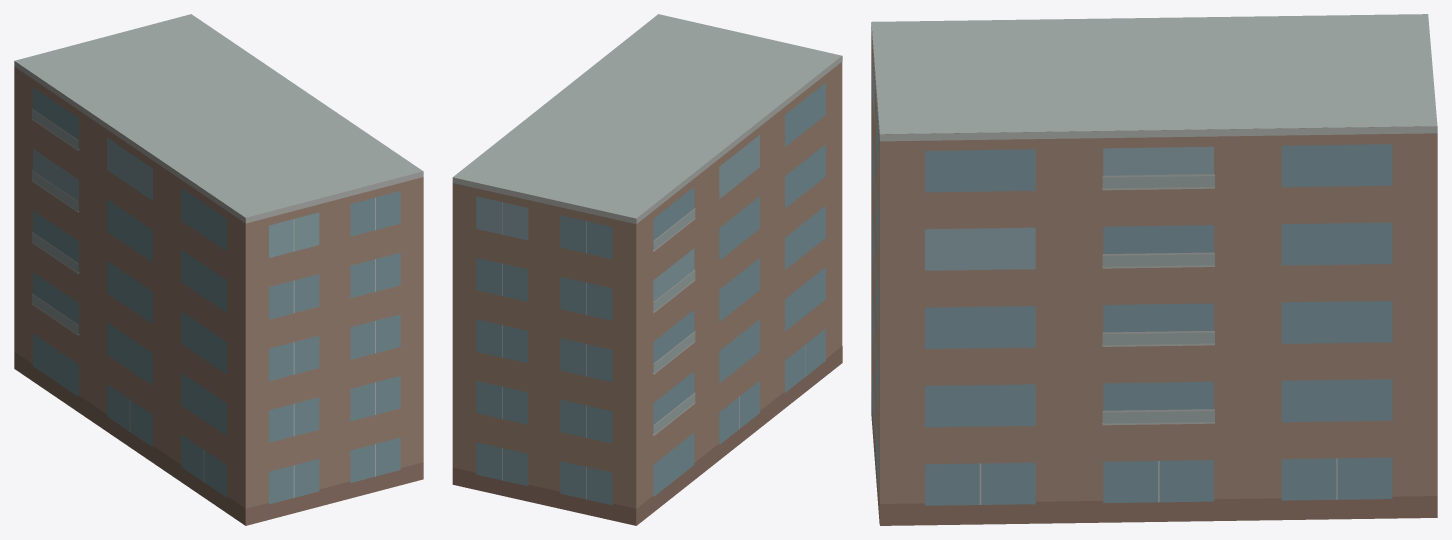
Rendered from survey-upis-32816693.glb.
The picture shows the model from 3 angles, left to right: view 1: azimuth 30°, elevation 25°; view 2: azimuth 150°, elevation 25°; view 3: azimuth 270°, elevation 25°; orthographic projection. The views are drawn at different scales.
Parts seen in each view (by area): view 1: survey-upis-32816693.tmp; view 2: survey-upis-32816693.tmp; view 3: survey-upis-32816693.tmp.
Boxes of the visible parts, <box> form: survey-upis-32816693.tmp: <box>14,14,423,525</box>; survey-upis-32816693.tmp: <box>452,14,842,525</box>; survey-upis-32816693.tmp: <box>871,14,1437,525</box>.
Bounding box in the file's own units: 8.76 × 13.3 × 17.43.
